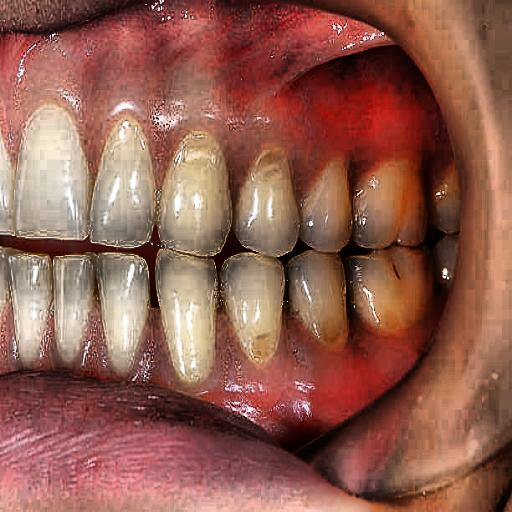Gingivitis: (6, 39, 404, 165), (218, 333, 422, 428)
